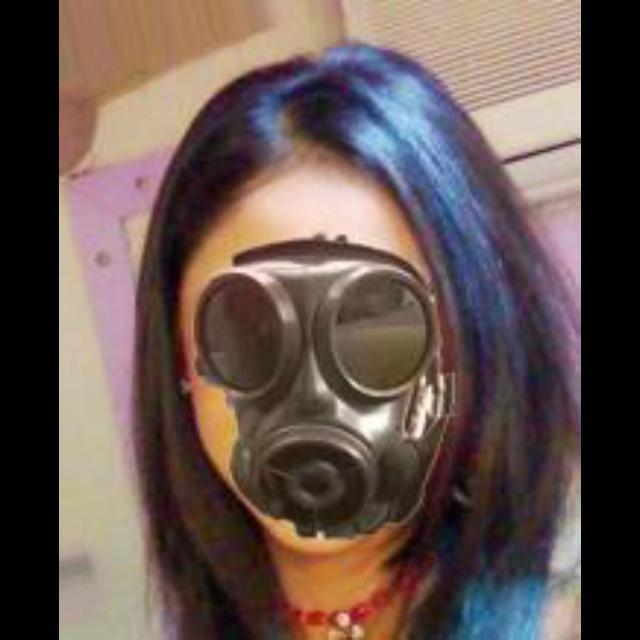suspicion: (137, 73, 539, 563)
